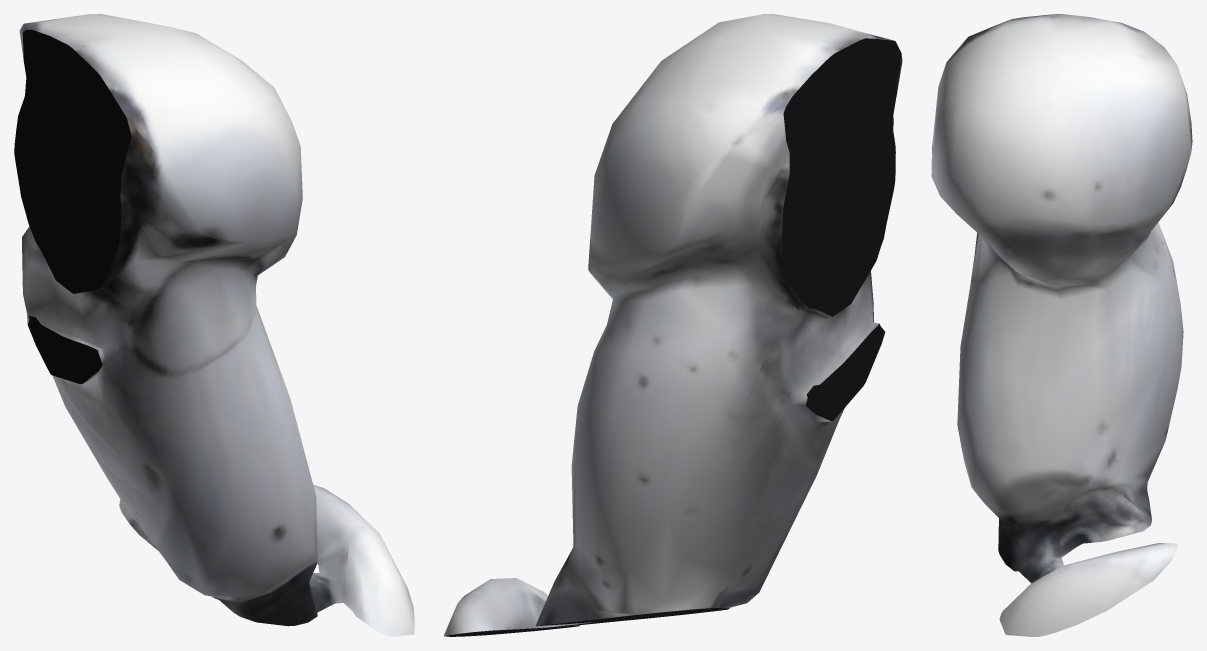
The model's file is left_upper_arm.obj.
The picture shows the model from 3 angles, left to right: view 1: azimuth 30°, elevation 25°; view 2: azimuth 150°, elevation 25°; view 3: azimuth 270°, elevation 25°; orthographic projection. The views are drawn at different scales.
Parts seen in each view (by area): view 1: left_upper_arm; view 2: left_upper_arm; view 3: left_upper_arm.
Part boxes in pixels (x1,y1,x2,y2): left_upper_arm: [14, 14, 414, 636]; left_upper_arm: [444, 14, 902, 636]; left_upper_arm: [931, 14, 1192, 636].
Size of the model in its own units: 0.2202 by 0.394 by 0.1853.
2 materials, 1 textured.
